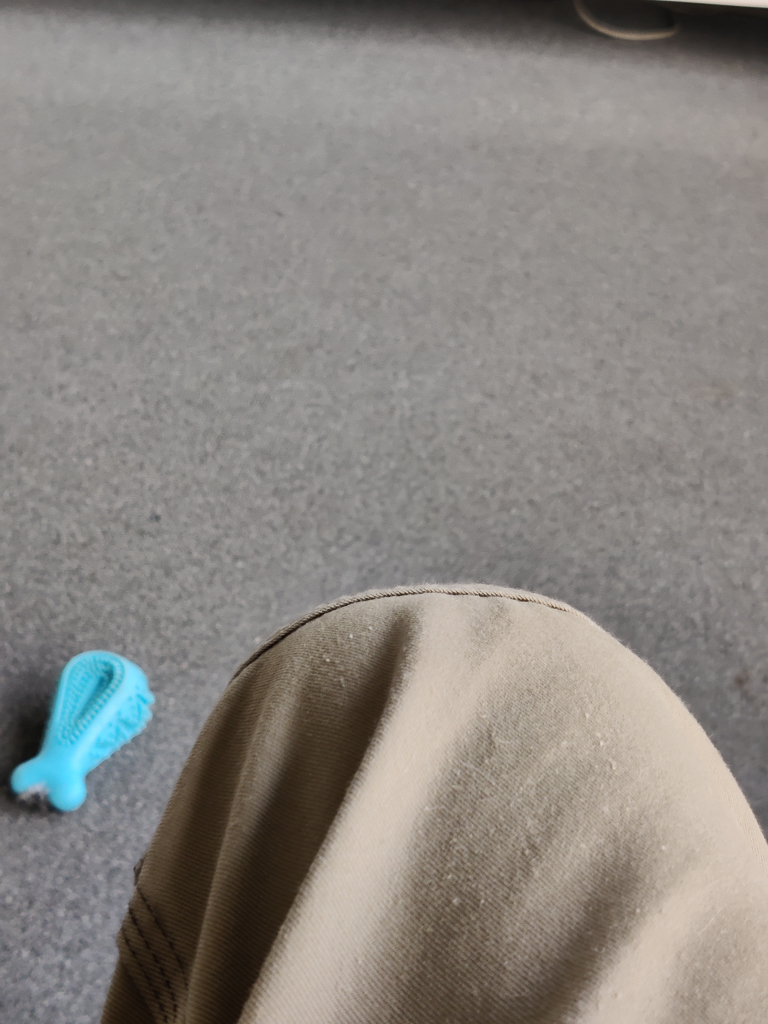Humanoid: (72, 552, 768, 1024)
